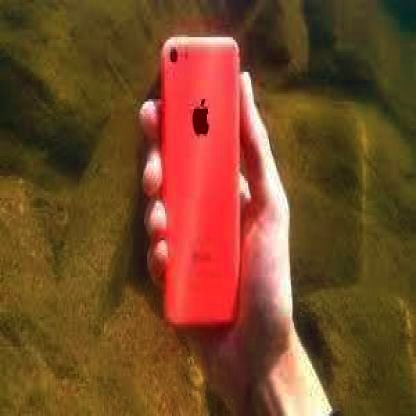cellphone: (160, 32, 242, 334)
